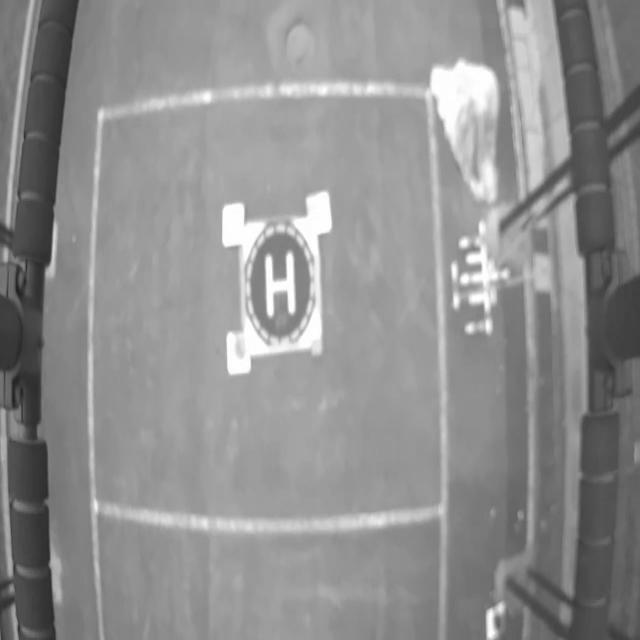Helipad: (265, 252, 297, 318)
